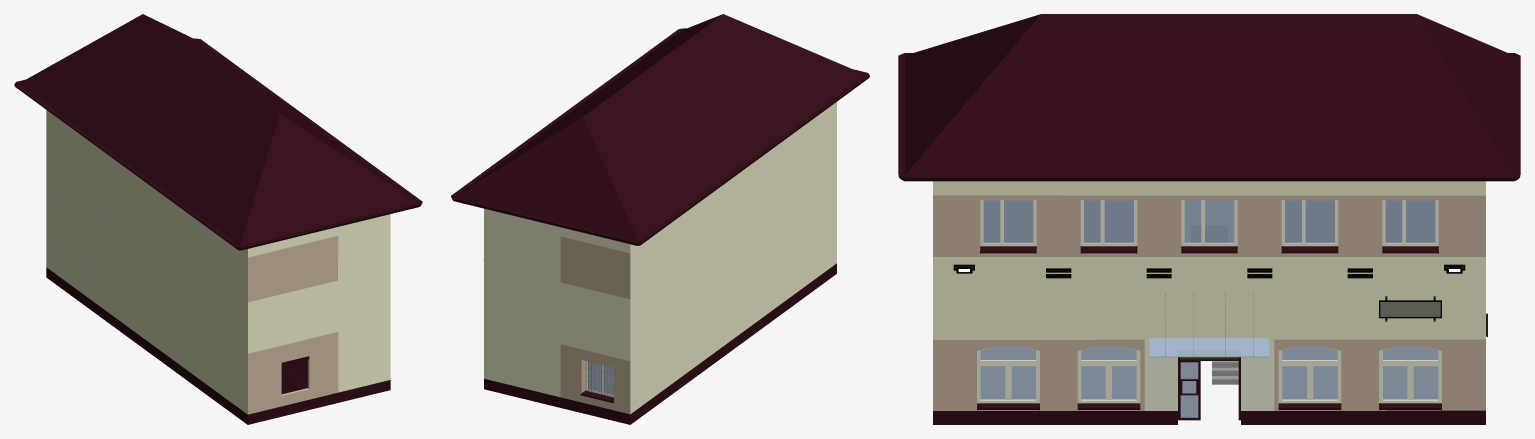
File: city-hall.glb
3 views of the same model, side by side, from view 1: azimuth 30°, elevation 25°; view 2: azimuth 150°, elevation 25°; view 3: azimuth 270°, elevation 25° (orthographic). The views are drawn at different scales.
Visible parts, largest first — view 1: MainBuliding, Roof, SideWindowSamllerObject; view 2: MainBuliding, Roof, SideWindowObject; view 3: Roof, MainBuliding, LowerWindowObject.002, LowerWindowObject.003, LowerWindowObject, LowerWindowObject.001, UpperWindowObject.002, UpperWindowObject.003, UpperWindowObject, UpperWindowObject.001, UpperWindowObject.004, FrontGlassRoof (+3 smaller).
Part boxes in pixels (left/top/right/bottom): MainBuliding: left=46, top=110, right=390, bottom=424; Roof: left=14, top=14, right=422, bottom=250; SideWindowSamllerObject: left=281, top=356, right=309, bottom=394; MainBuliding: left=484, top=102, right=836, bottom=424; Roof: left=451, top=14, right=869, bottom=245; SideWindowObject: left=585, top=361, right=613, bottom=397; Roof: left=898, top=14, right=1520, bottom=181; MainBuliding: left=933, top=181, right=1485, bottom=424; LowerWindowObject.002: left=1077, top=345, right=1140, bottom=403; LowerWindowObject.003: left=1278, top=345, right=1341, bottom=403; LowerWindowObject: left=1379, top=345, right=1441, bottom=403; LowerWindowObject.001: left=977, top=345, right=1039, bottom=403; UpperWindowObject.002: left=1281, top=200, right=1338, bottom=246; UpperWindowObject.003: left=1080, top=200, right=1137, bottom=246; UpperWindowObject: left=1181, top=200, right=1237, bottom=246; UpperWindowObject.001: left=1382, top=200, right=1438, bottom=246; UpperWindowObject.004: left=980, top=200, right=1036, bottom=246; FrontGlassRoof: left=1149, top=293, right=1269, bottom=357.
Bounding box in the file's own units: 23.75 × 31.9 × 49.5.
